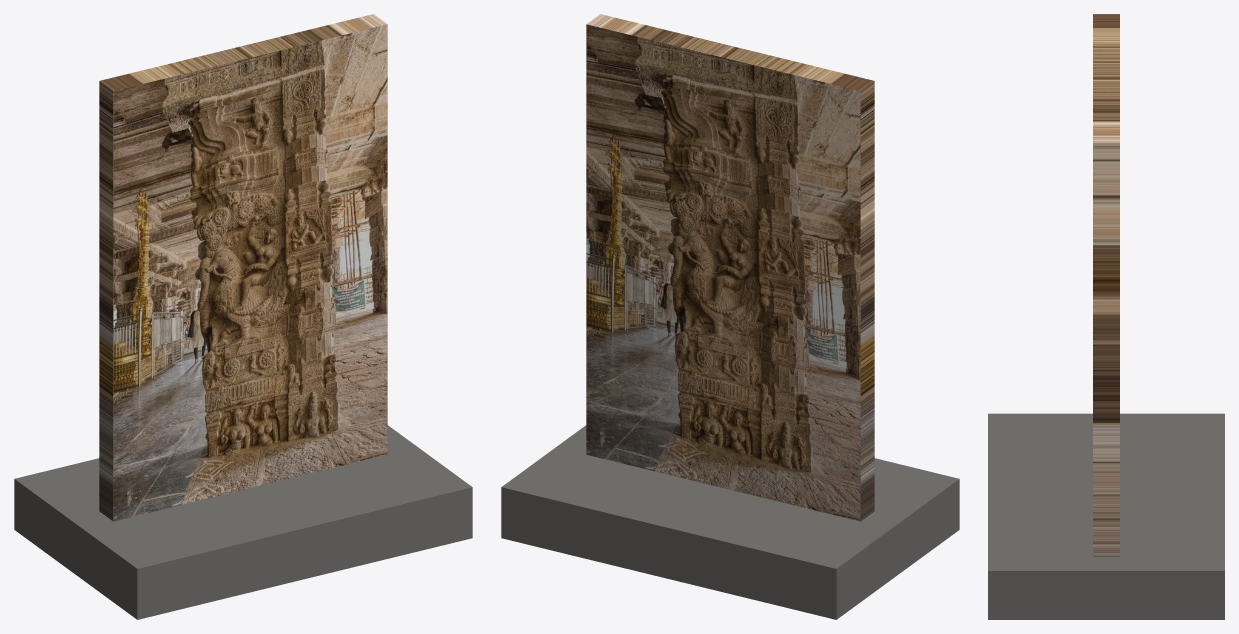
Rendered from default_heritage_relic.glb.
3 views of the same model, side by side, from view 1: azimuth 30°, elevation 25°; view 2: azimuth 150°, elevation 25°; view 3: azimuth 270°, elevation 25° (orthographic). The views are drawn at different scales.
Visible parts, largest first — view 1: Default_Temple_Pillar_Sculpture, Default_Temple_Pillar_Pedestal; view 2: Default_Temple_Pillar_Sculpture, Default_Temple_Pillar_Pedestal; view 3: Default_Temple_Pillar_Pedestal, Default_Temple_Pillar_Sculpture.
Part boxes in pixels (left/top/right/bottom): Default_Temple_Pillar_Sculpture: left=99, top=14, right=387, bottom=521; Default_Temple_Pillar_Pedestal: left=14, top=425, right=472, bottom=619; Default_Temple_Pillar_Sculpture: left=586, top=14, right=874, bottom=521; Default_Temple_Pillar_Pedestal: left=501, top=425, right=959, bottom=619; Default_Temple_Pillar_Pedestal: left=988, top=413, right=1224, bottom=619; Default_Temple_Pillar_Sculpture: left=1093, top=14, right=1119, bottom=556.
Size of the model in its own units: 1.1 by 1.51 by 0.7.
Materials: 2 (1 with a texture image).
